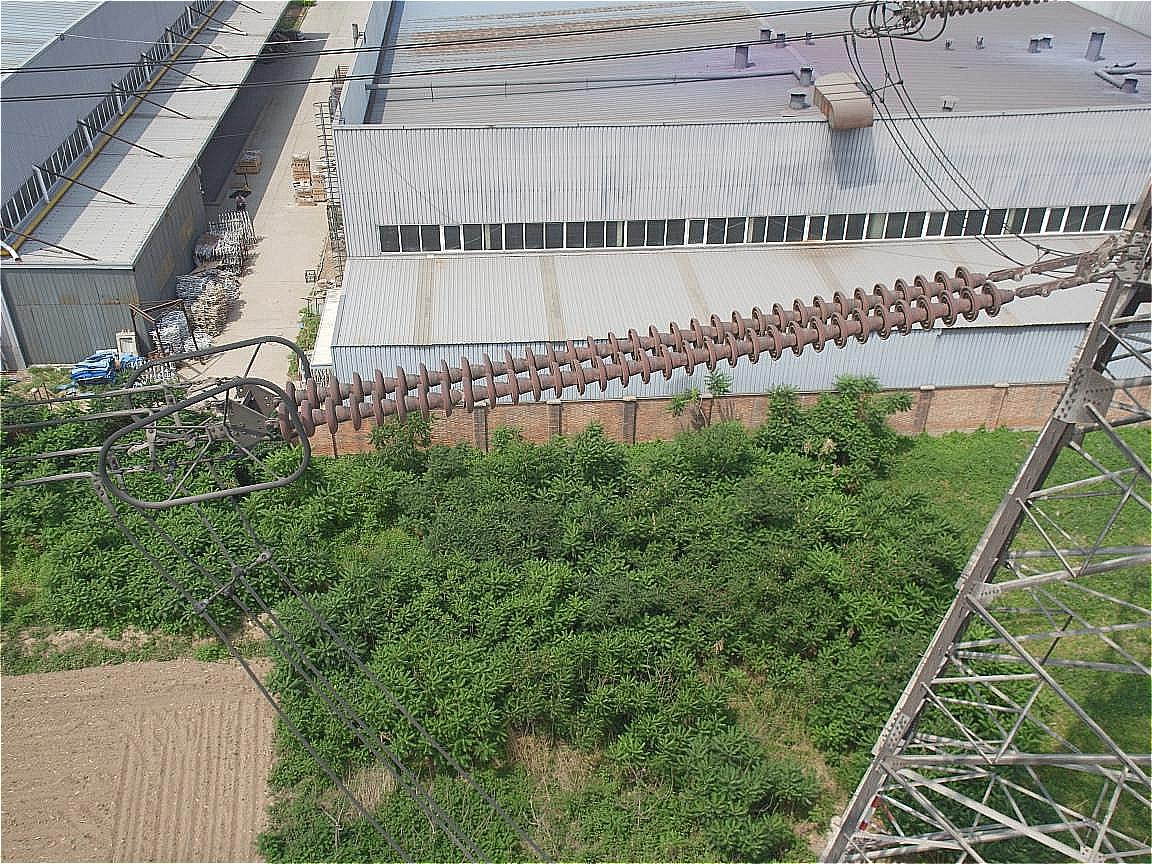insultor1: (274, 266, 1003, 437)
